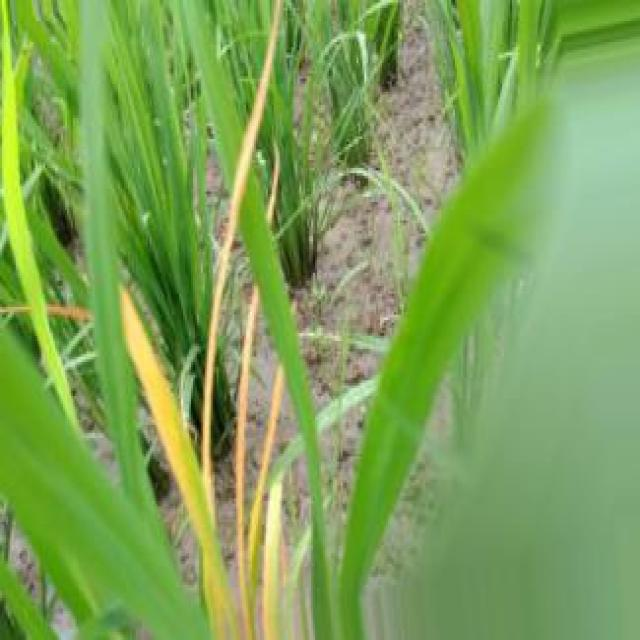Rice Tungro: (201, 0, 281, 509), (122, 290, 236, 637), (248, 365, 285, 627), (235, 286, 257, 637)
